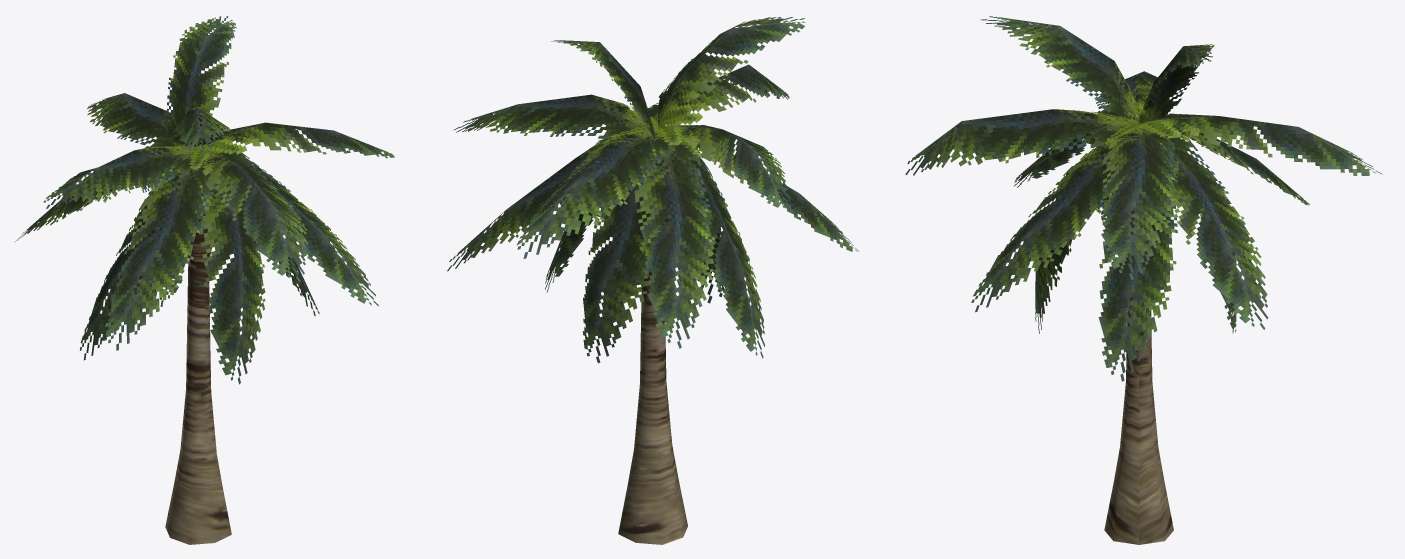
The model's file is PalmTrees.glb.
3 views of the same model, side by side, from view 1: azimuth 30°, elevation 25°; view 2: azimuth 150°, elevation 25°; view 3: azimuth 270°, elevation 25° (orthographic). The views are drawn at different scales.
Parts seen in each view (by area): view 1: PalmTree; view 2: PalmTree; view 3: PalmTree.
Part boxes in pixels (x1,y1,x2,y2): PalmTree: [15, 16, 395, 544]; PalmTree: [447, 17, 859, 544]; PalmTree: [905, 16, 1382, 544].
Size of the model in its own units: 8.19 by 10.61 by 9.42.
2 materials, 2 textured.
